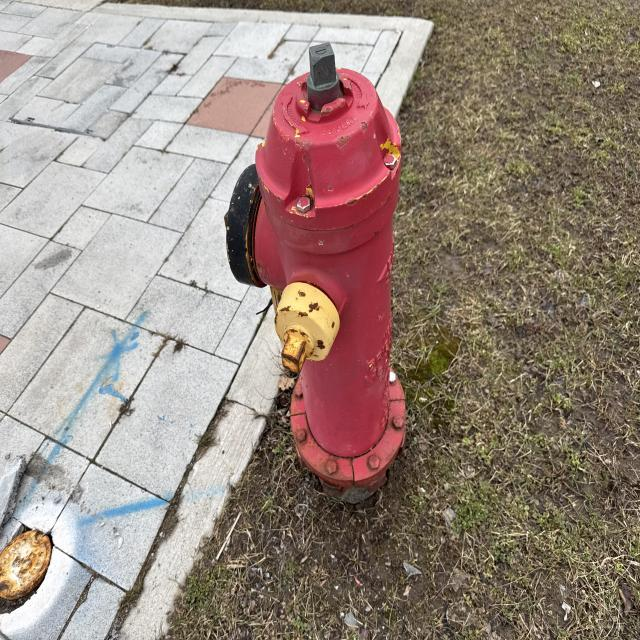Fire hydrant: (223, 41, 408, 497)
